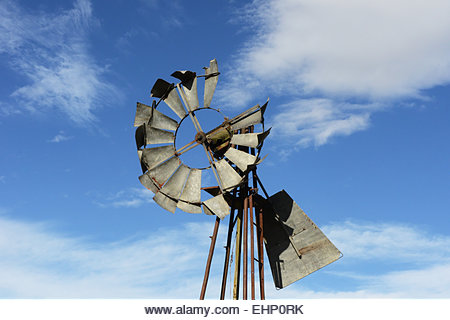faulty: (129, 57, 337, 282)
